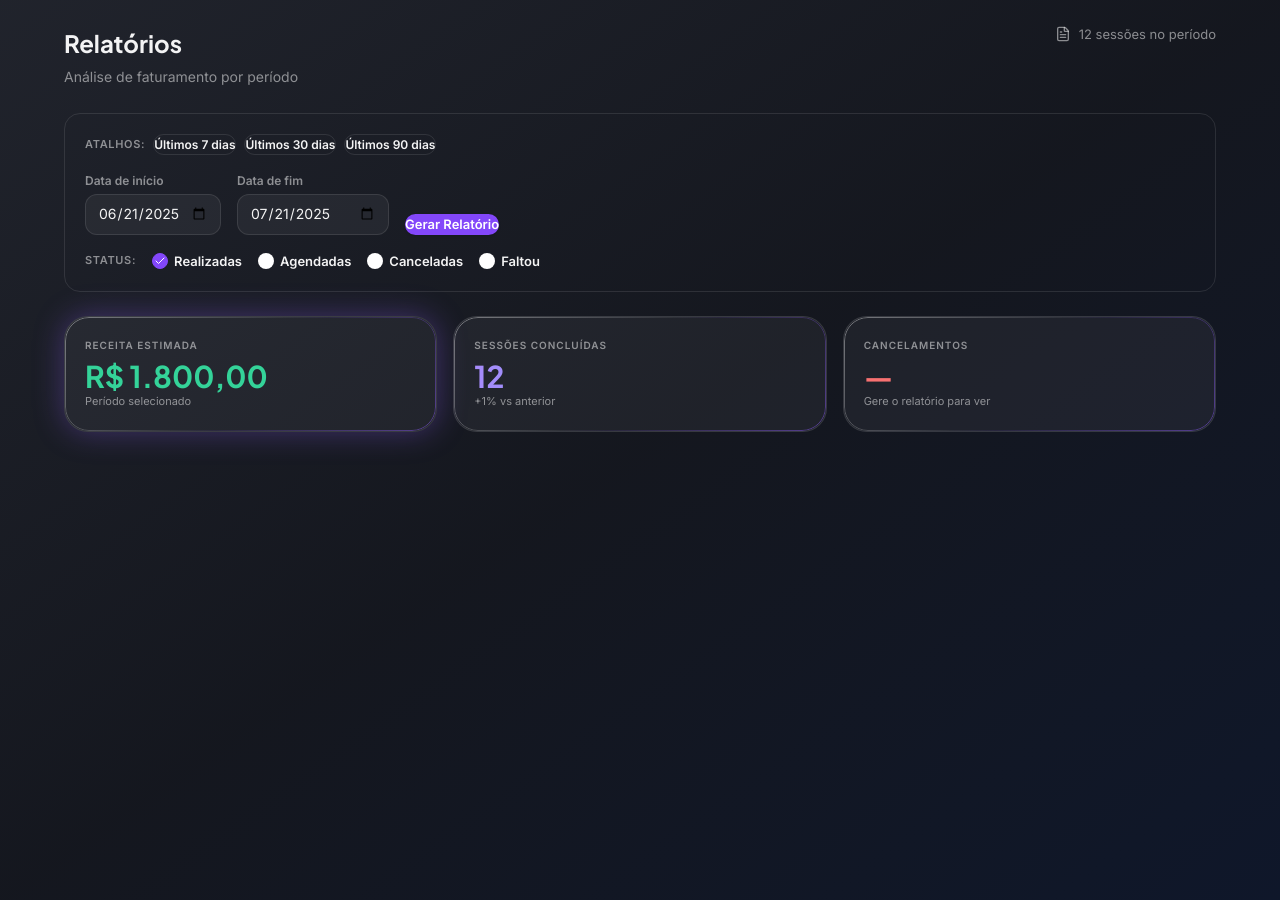
Test: ReportsPage › exibe tabela de faturamento após clicar em "Gerar Relatório"
The image size is (1280, 900).
Click the button "Gerar Relatório". click: (452, 224)
box: [405,214,499,235]
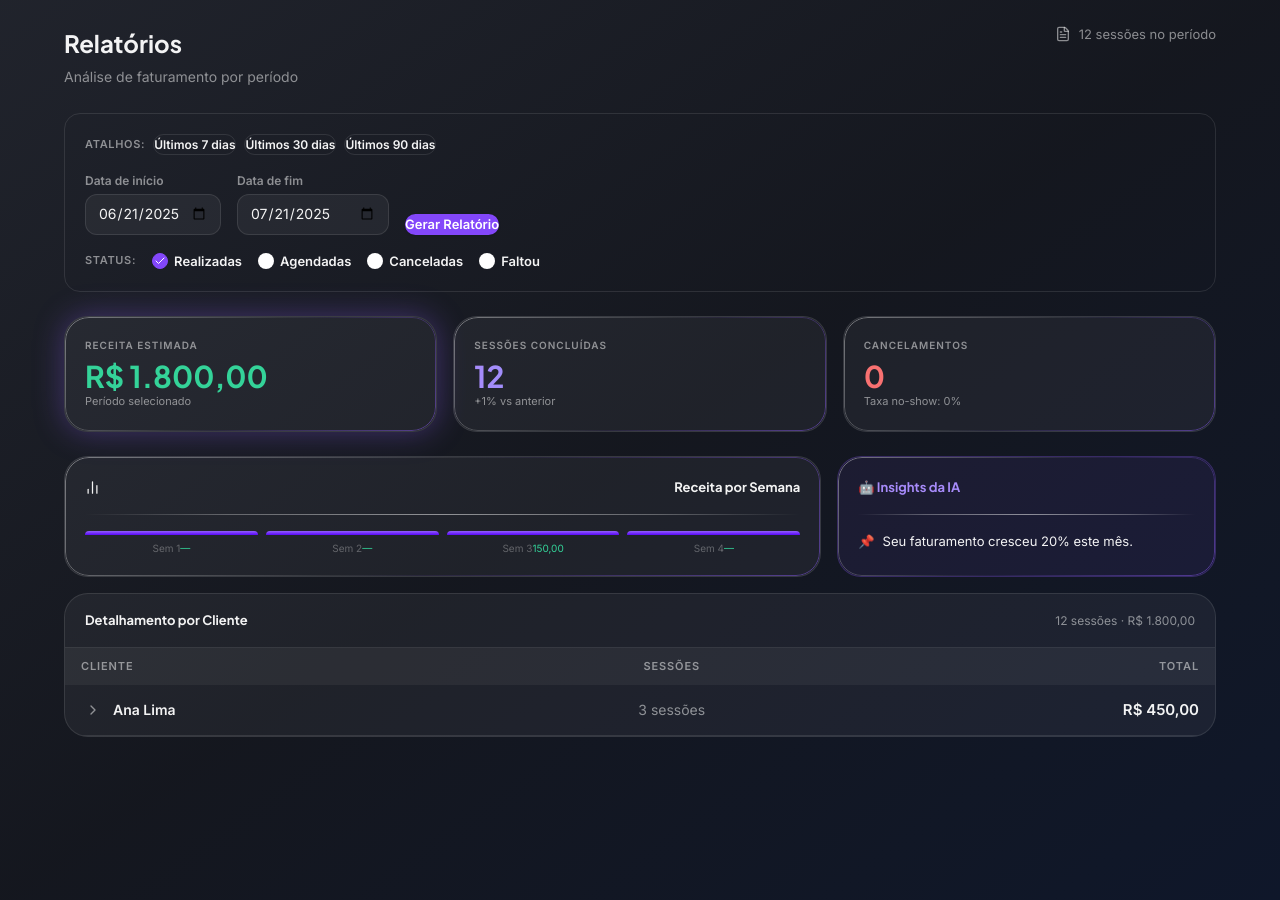
Expected: the text "Ana Lima" is shown, [113,699,176,721]
Expected: the text "R$ 450,00" is shown, [1123,700,1199,719]
